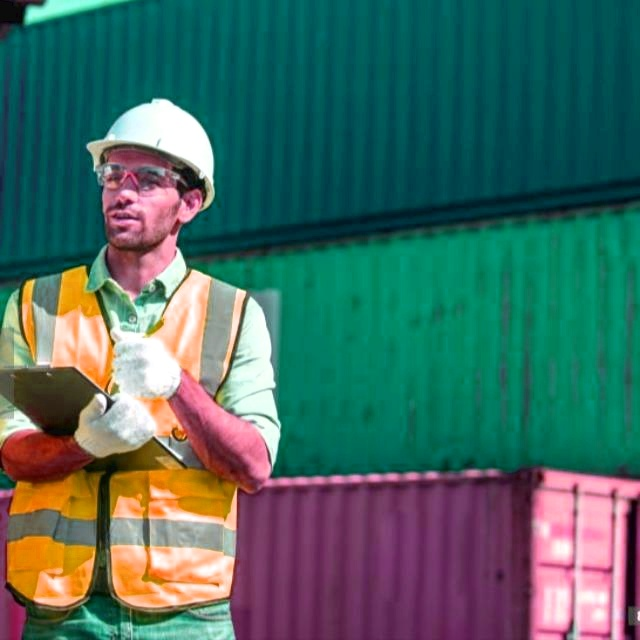Con_Casco: (88, 99, 218, 252)
Con_Chaleco: (5, 260, 252, 611)
